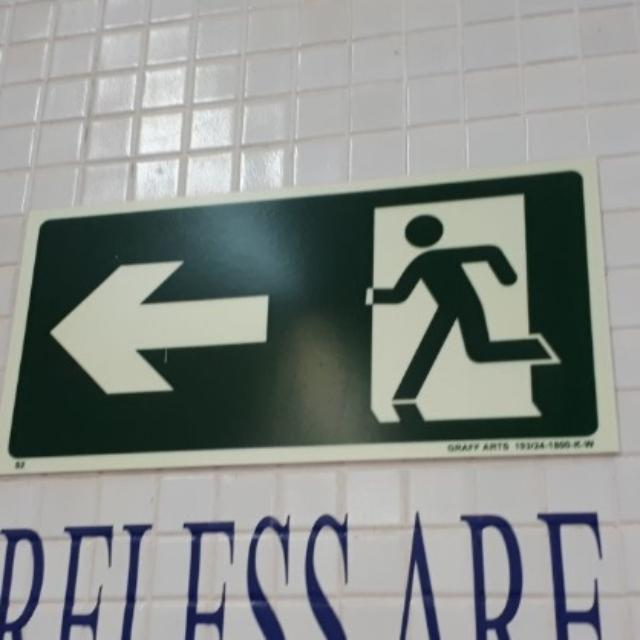exit: (0, 162, 614, 472)
